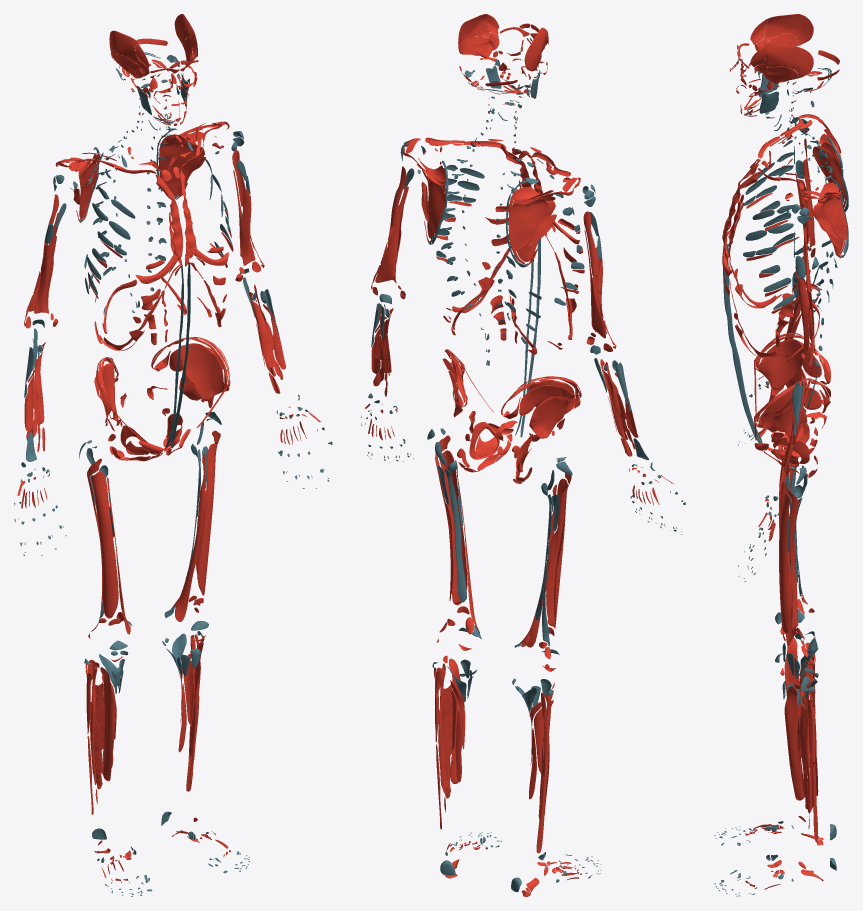
File: muscular-insertions.glb
3 views of the same model, side by side, from view 1: azimuth 30°, elevation 25°; view 2: azimuth 150°, elevation 25°; view 3: azimuth 270°, elevation 25° (orthographic). The views are drawn at different scales.
Visible parts, largest first — view 1: Vastus intermedius muscle.or · Web, Iliacus muscle.ol · Web, Subscapularis muscle.ol · Web, Vastus intermedius muscle.ol · Web, Tibialis anterior muscle.or · Web, Vastus medialis muscle.ol · Web, Brachialis muscle.or · Web, Brachialis muscle.ol · Web, Ulnar head of flexor carpi ulnaris.ol · Web, Rectus abdominis muscle.el · Web, Temporalis muscle.o2r · Web; view 2: Infraspinatus muscle.or · Web, Vastus intermedius muscle.ol · Web, Vastus lateralis muscle.or · Web, Gluteus minimus muscle.or · Web, Adductor magnus.el · Web, Medial head of triceps brachii.ol · Web, Tibialis posterior muscle.ol · Web, Gluteus medius muscle.or · Web, Infraspinatus muscle.ol · Web, Vastus intermedius muscle.or · Web, Temporalis muscle.o2l · Web; view 3: Iliacus muscle.or · Web, Tibialis anterior muscle.ol · Web, Vastus intermedius muscle.ol · Web, Temporalis muscle.o2l · Web, Temporalis muscle.o2r · Web, Rectus abdominis muscle.el · Web, Vastus lateralis muscle.ol · Web, Infraspinatus muscle.ol · Web, Subscapularis muscle.or · Web, Gluteus minimus muscle.ol · Web, Brachialis muscle.ol · Web, Iliacus muscle.ol · Web (+17 smaller).
Boxes of the visible parts, <box> form: Vastus intermedius muscle.or · Web: <box>91,471,118,618</box>; Iliacus muscle.ol · Web: <box>180,343,224,401</box>; Subscapularis muscle.ol · Web: <box>163,136,204,196</box>; Vastus intermedius muscle.ol · Web: <box>197,443,217,595</box>; Tibialis anterior muscle.or · Web: <box>100,667,115,781</box>; Vastus medialis muscle.ol · Web: <box>175,453,206,621</box>; Brachialis muscle.or · Web: <box>34,235,56,313</box>; Brachialis muscle.ol · Web: <box>239,188,255,265</box>; Ulnar head of flexor carpi ulnaris.ol · Web: <box>248,292,276,367</box>; Rectus abdominis muscle.el · Web: <box>170,262,190,446</box>; Temporalis muscle.o2r · Web: <box>109,30,139,64</box>; Infraspinatus muscle.or · Web: <box>508,196,555,251</box>; Vastus intermedius muscle.ol · Web: <box>439,450,467,605</box>; Vastus lateralis muscle.or · Web: <box>546,465,571,626</box>; Gluteus minimus muscle.or · Web: <box>529,397,569,438</box>; Adductor magnus.el · Web: <box>444,469,481,639</box>; Medial head of triceps brachii.ol · Web: <box>375,186,408,282</box>; Tibialis posterior muscle.ol · Web: <box>441,684,456,757</box>; Gluteus medius muscle.or · Web: <box>519,385,574,415</box>; Infraspinatus muscle.ol · Web: <box>417,163,445,231</box>; Vastus intermedius muscle.or · Web: <box>553,478,567,628</box>; Temporalis muscle.o2l · Web: <box>458,14,489,54</box>; Iliacus muscle.or · Web: <box>758,339,805,390</box>; Tibialis anterior muscle.ol · Web: <box>784,686,804,800</box>; Vastus intermedius muscle.ol · Web: <box>779,490,790,634</box>; Temporalis muscle.o2l · Web: <box>764,44,813,77</box>; Temporalis muscle.o2r · Web: <box>764,14,813,45</box>; Rectus abdominis muscle.el · Web: <box>723,247,761,443</box>; Vastus lateralis muscle.ol · Web: <box>783,479,798,629</box>; Infraspinatus muscle.ol · Web: <box>820,194,847,239</box>; Subscapularis muscle.or · Web: <box>812,145,844,202</box>; Gluteus minimus muscle.ol · Web: <box>774,405,806,441</box>; Brachialis muscle.ol · Web: <box>795,266,809,352</box>; Iliacus muscle.ol · Web: <box>758,382,805,432</box>.
Size of the model in its own units: 0.6605 by 1.65 by 0.2414.
